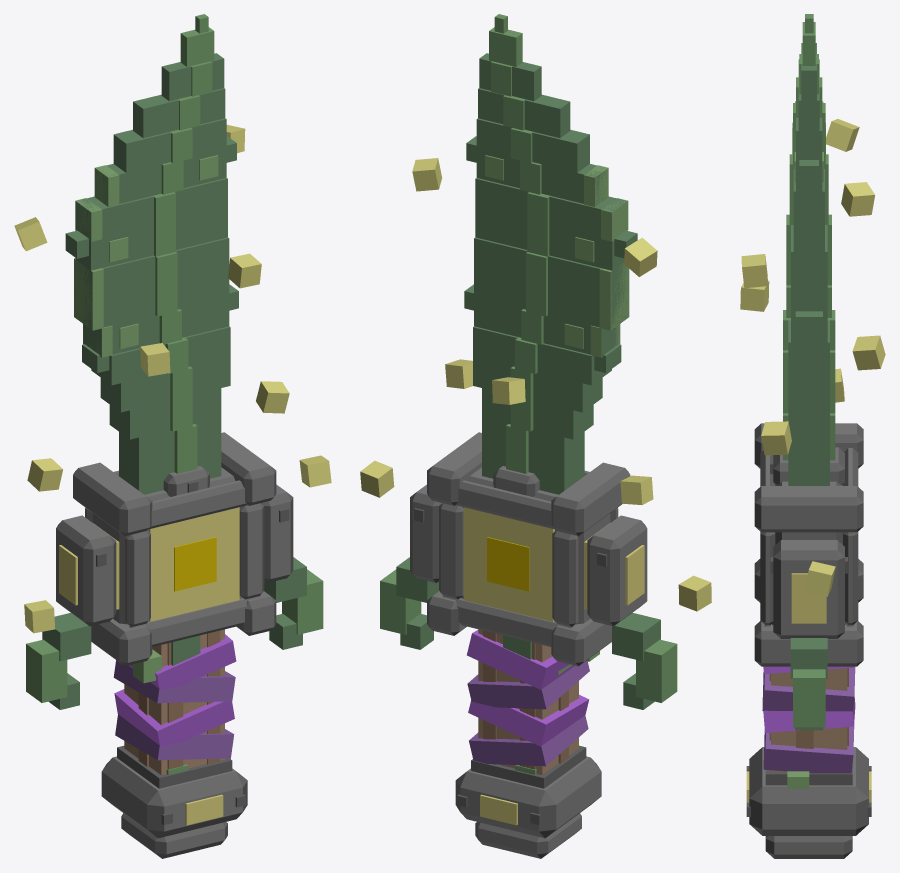
The model's file is firefly_fangs_roblox.glb.
3 renders of one model, left to right at view 1: azimuth 30°, elevation 25°; view 2: azimuth 150°, elevation 25°; view 3: azimuth 270°, elevation 25°, orthographic. The views are drawn at different scales.
Parts seen in each view (by area): view 1: Daggers, Gems, Leaves; view 2: Daggers, Gems, Leaves; view 3: Daggers, Gems, Leaves.
Boxes of the visible parts, x1,y1,x2,y2 form: Daggers: (56,14,293,858); Gems: (14,124,331,825); Leaves: (26,557,323,774); Daggers: (410,14,647,858); Gems: (360,158,711,825); Leaves: (380,557,677,774); Daggers: (746,14,871,858); Gems: (740,119,885,802); Leaves: (787,638,827,788).
Size of the model in its own units: 0.3508 by 0.855 by 0.1335.
